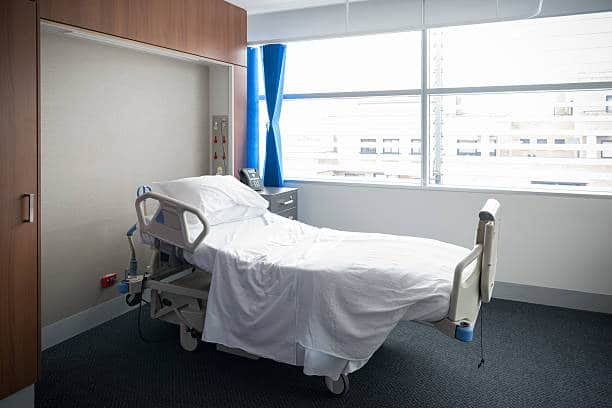trolley_bed: (115, 172, 505, 397)
